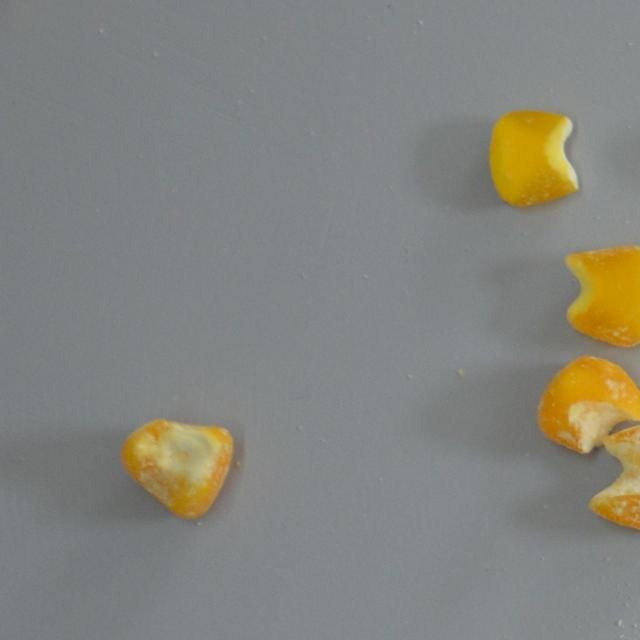no_canjicado: (488, 108, 580, 207)
pelicula: (119, 418, 236, 519), (536, 354, 640, 454), (564, 244, 640, 348), (588, 417, 640, 534)
